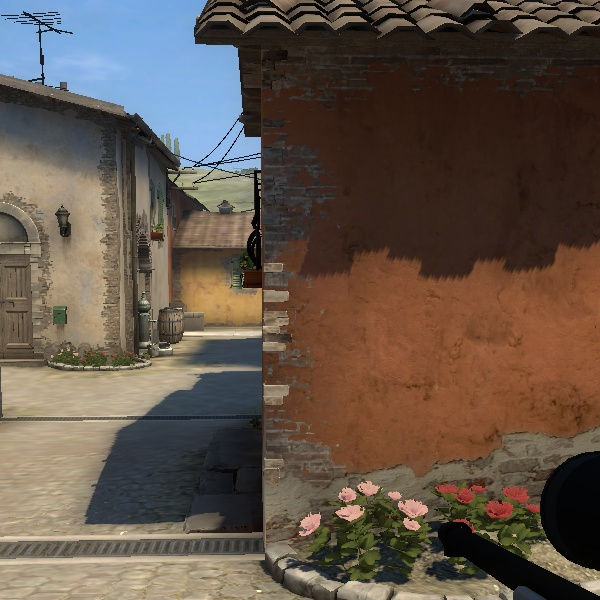ct_body: (291, 468, 446, 599)
